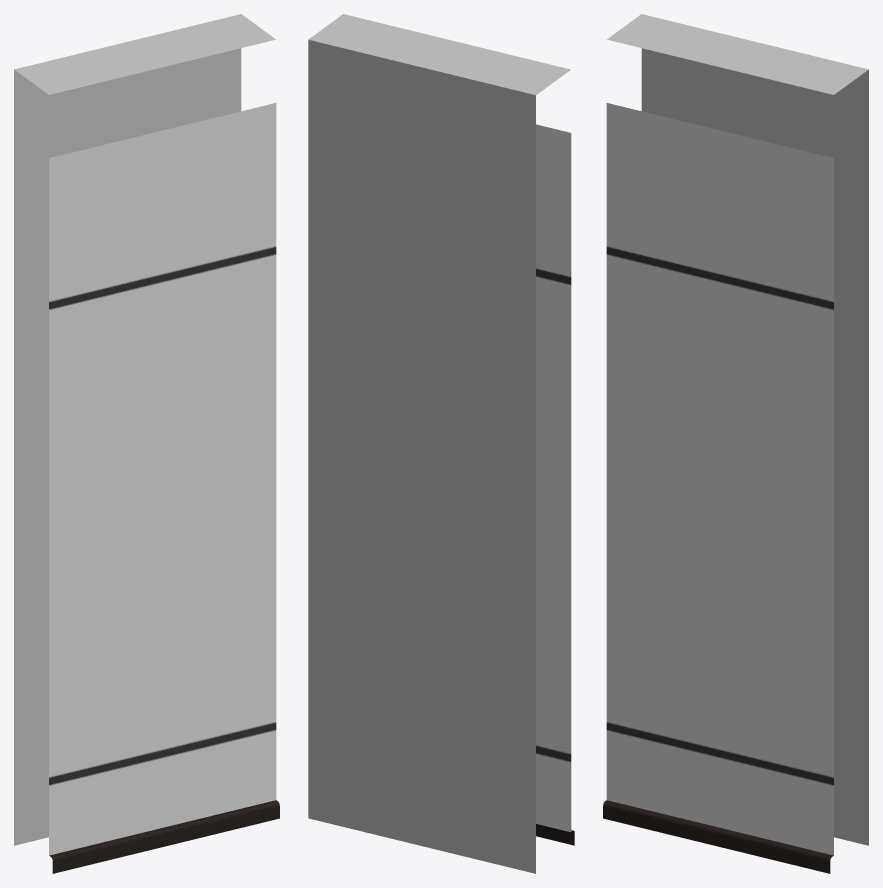
The model's file is Wall05.FBX.
3 renders of one model, left to right at view 1: azimuth 30°, elevation 25°; view 2: azimuth 150°, elevation 25°; view 3: azimuth 330°, elevation 25°, orthographic.
Parts seen in each view (by area): view 1: Wall05; view 2: Wall05; view 3: Wall05.
Part boxes in pixels (x1,y1,x2,y2): Wall05: [14, 14, 279, 873]; Wall05: [308, 14, 574, 873]; Wall05: [603, 14, 868, 873].
Bounding box in the file's own units: 1.5 × 4.9 × 0.44.
